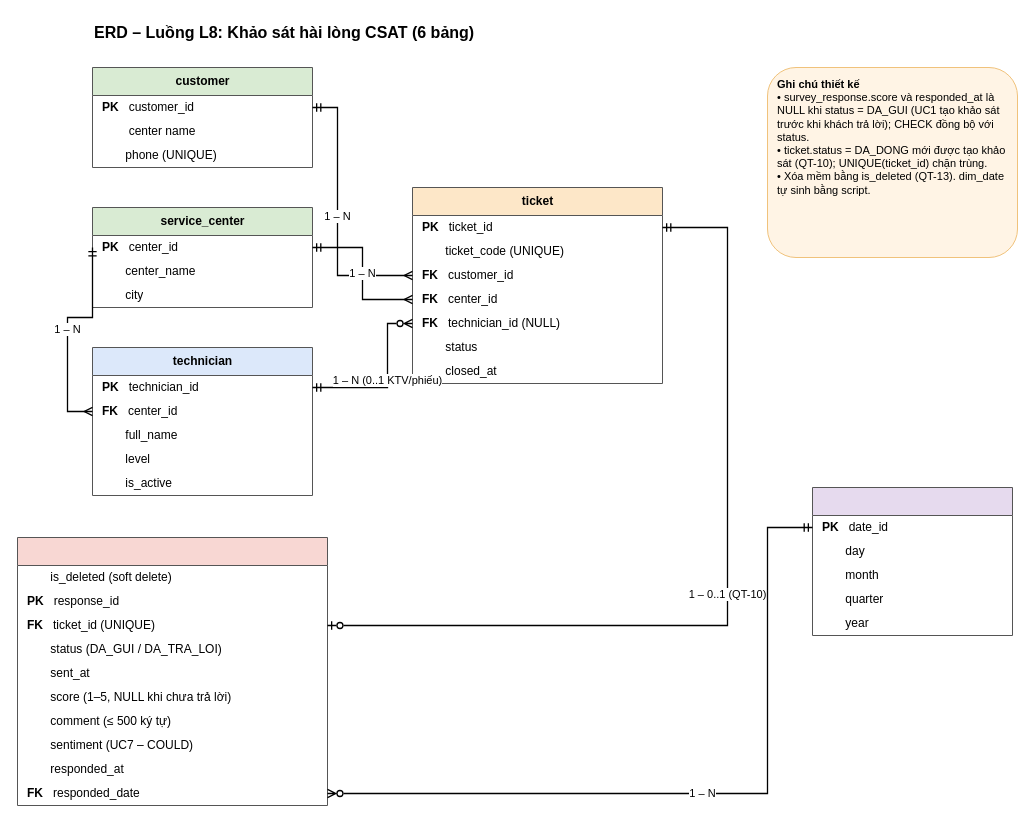
The diagram is 1035 pixels wide and 823 high, and some of its shapes have lost their labels. The shapes that lost their labels are listed below. From the top down, each one's box as (x1, y1, x2, y2) in pixels, then its label:
(812, 486, 1012, 636): dim_date
(16, 536, 328, 806): survey_response
